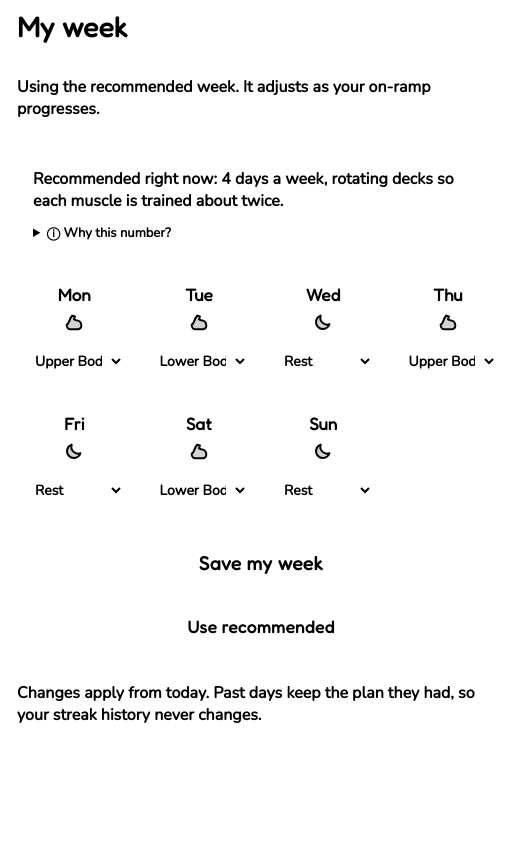
Scenario: PlanScreen › starts from the recommended week and saves a custom one
Check: the dropdown named "Monday" shows "Upper Body: Push", box 25,339 -> 124,383
Check: the text "Using the recommended week" is shown, box 17,76 -> 430,120
Select "Rest" in the dropdown named "Thursday" at x=448, y=361, box 398,339 -> 497,383
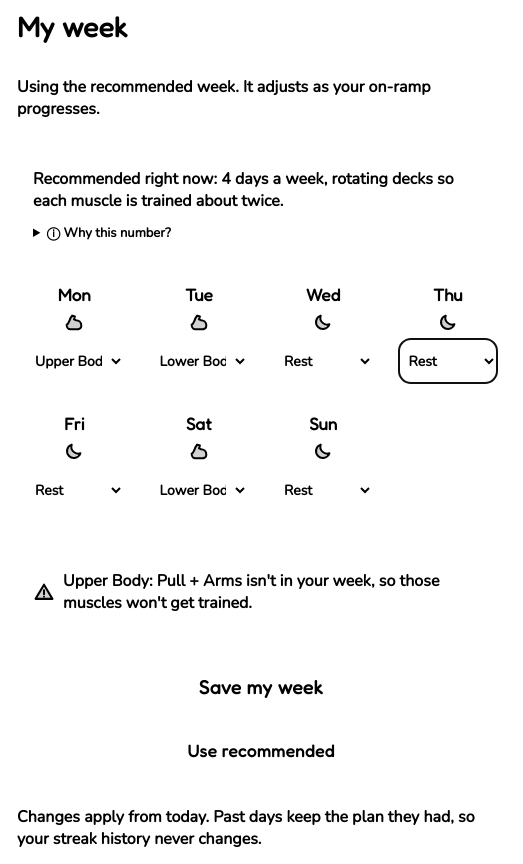
Check: the text "Upper Body: Pull + Arms isn't in your week" is shown, box 63,570 -> 439,614
Select "Upper Body: Pull + Arms" in the dropdown named "Friday" at x=74, y=490, box 25,468 -> 124,512
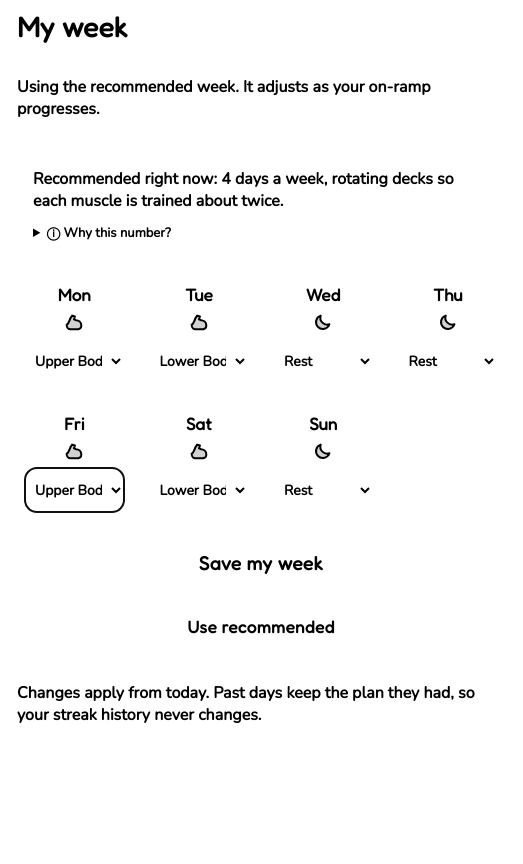
Check: the text "isn't in your week" is gone
Click the button "Save my week" at x=261, y=562, box 17,538 -> 505,586
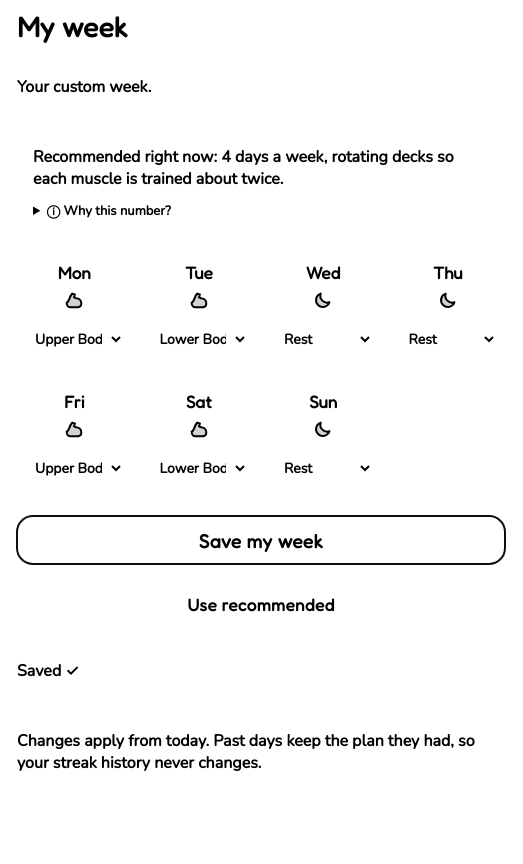
Check: the text "Saved ✓" is shown, box 17,660 -> 80,682
